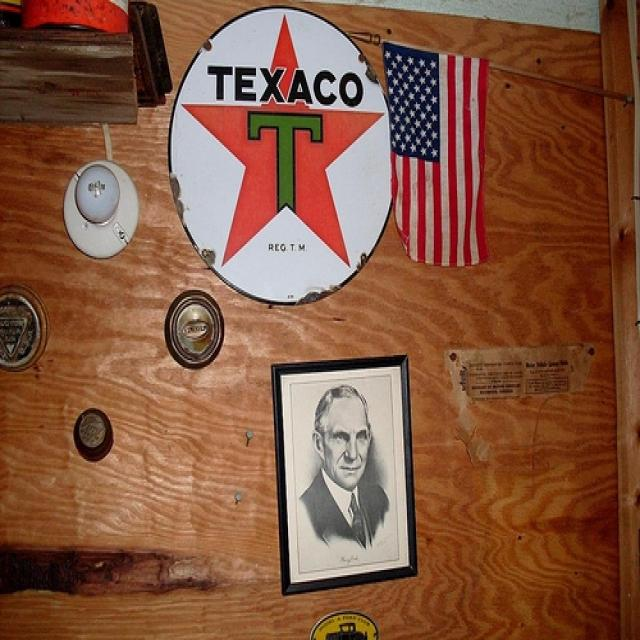texaco: (168, 8, 392, 305)
